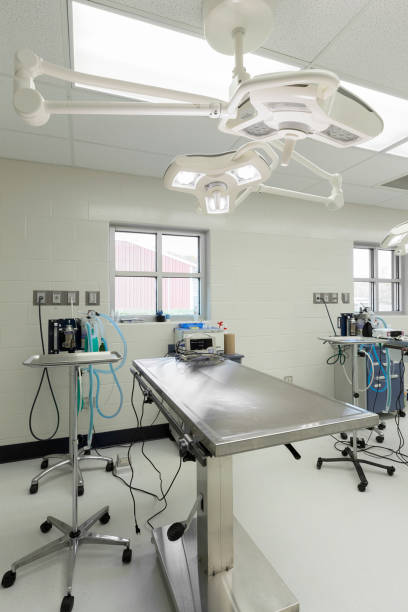bedside_monitor: (180, 328, 221, 360)
breathing_tube: (85, 313, 127, 445)
medical_drawer: (339, 331, 408, 427)
operating_bed: (131, 353, 379, 612)
surgical_light: (217, 67, 388, 151), (162, 147, 273, 217), (378, 212, 408, 258)
utility_cart: (1, 346, 128, 612), (319, 335, 392, 493)
